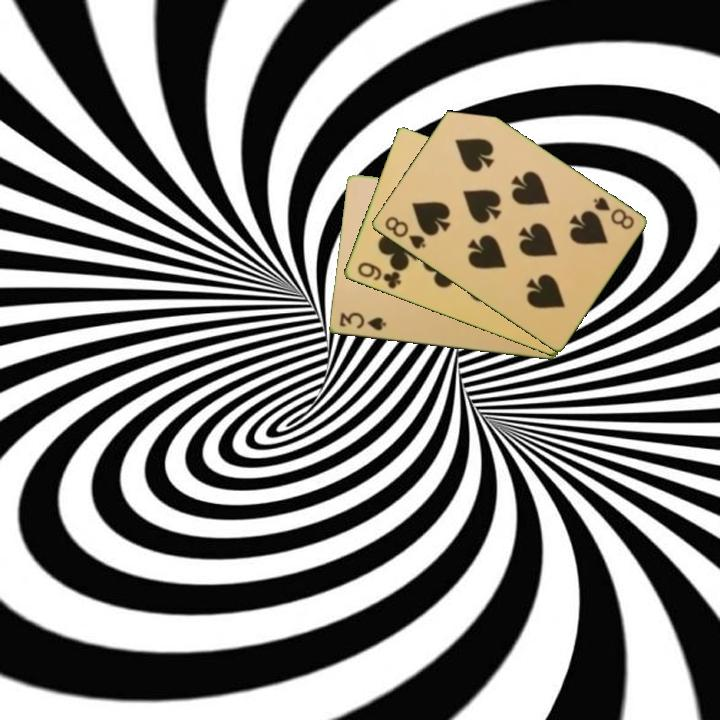3s: (336, 309, 389, 334)
8s: (589, 193, 637, 233), (381, 213, 428, 252)
9c: (354, 259, 404, 292)
